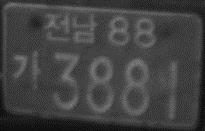1: (165, 59, 181, 121)
3: (52, 49, 80, 111)
8: (121, 57, 151, 119), (86, 54, 115, 114), (133, 16, 157, 49), (107, 15, 130, 47)
가: (13, 48, 42, 92)
전남_O: (43, 11, 97, 44)
